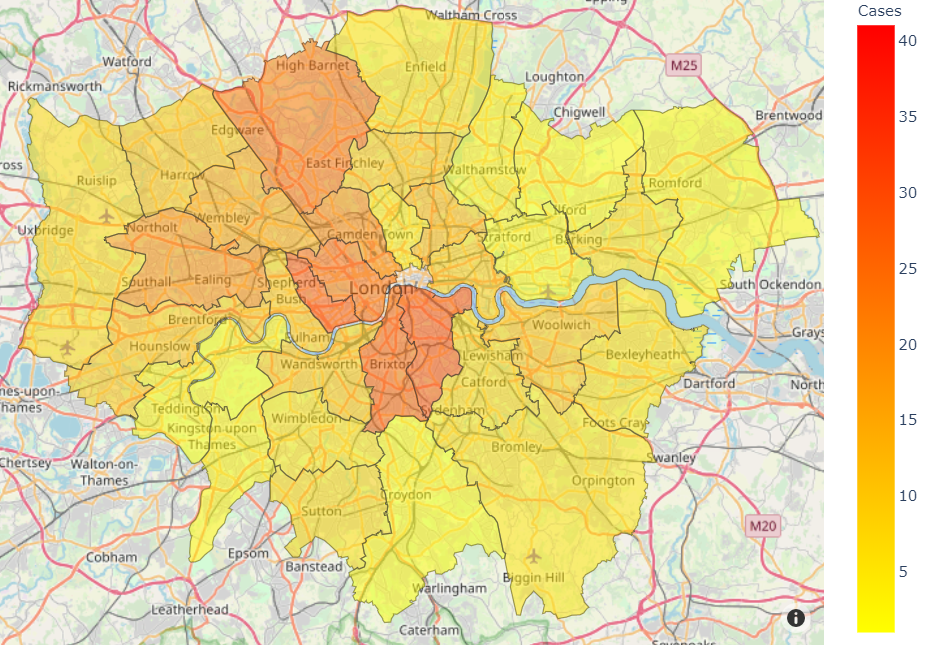

Layout of this report page (visuals, bound fields, positions):
{"tool":"tableau","page":{"name":"Dashboard","canvas":[1000,800],"ordinal":0},"visuals":[{"type":"worksheet","title":"Map","mark":"Multipolygon","box":[8,8,824,784]},{"type":"legend","title":"Map","param":"[federated.057d8jo02oxl8f14ed53l16nlkxf].[sum:Number of confirmed cases:qk]","box":[832,8,160,73]},{"type":"text","box":[832,81,160,50]},{"type":"text","box":[832,131,160,176]}]}

Visuals, with their boxes on the page's 1000x800 design canvas (x1, y1, x2, y2). These are canvas units, not pixel positions in the 925x647 screenshot, which may show the page scaled, cropped or inside an application window:
"Map" worksheet (Multipolygon marks): 8,8,832,792
"Map" legend: 832,8,992,81
text: 832,81,992,131
text: 832,131,992,307
